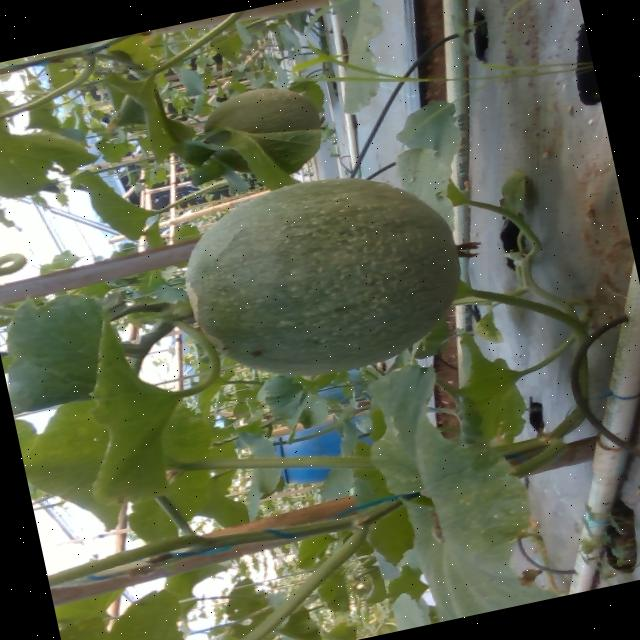melon: (185, 177, 457, 373)
